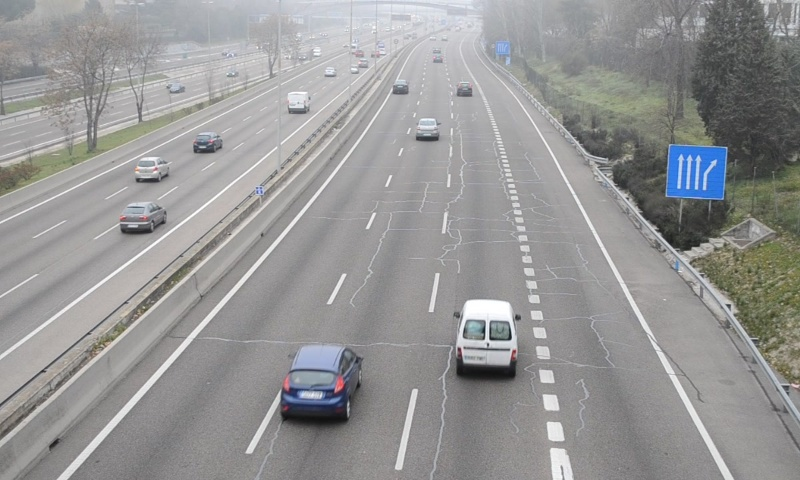car: (279, 344, 362, 419), (416, 117, 440, 138), (391, 78, 409, 96), (456, 81, 473, 98)
van: (458, 299, 518, 374)
